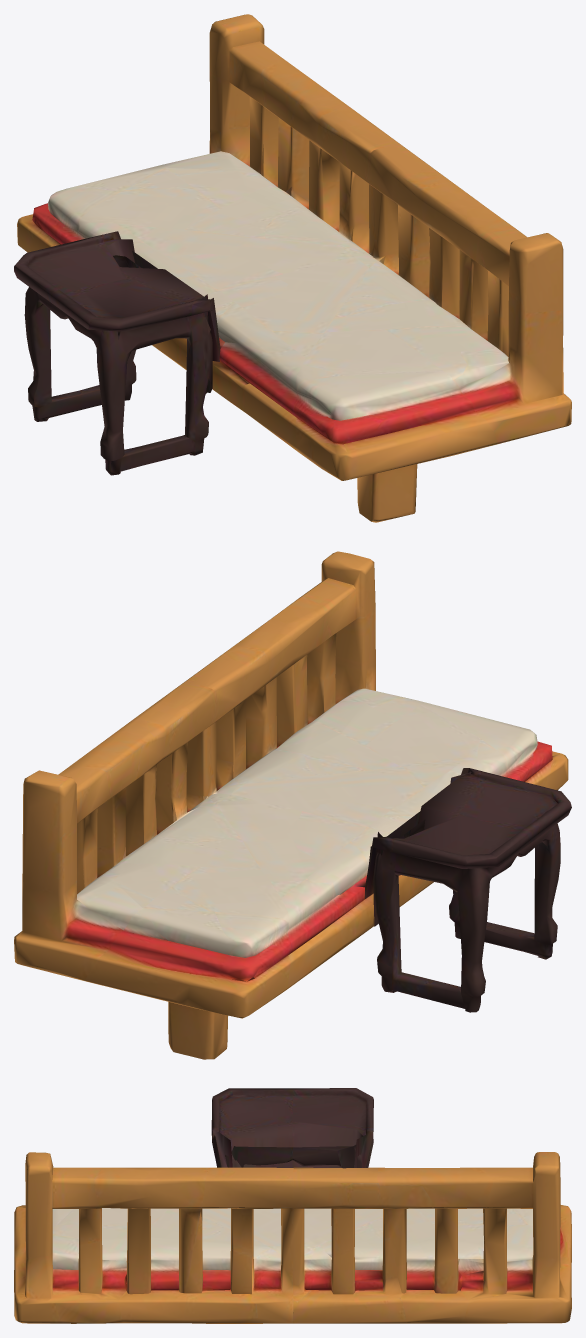
File: KR_사물_s1_seat_wallbench.glb
3 views of the same model, one above another, from view 1: azimuth 30°, elevation 25°; view 2: azimuth 150°, elevation 25°; view 3: azimuth 270°, elevation 25° (orthographic). The views are drawn at different scales.
Parts seen in each view (by area): view 1: tripo_node_1445dec6-3598-45f6-806b-2328146b556a; view 2: tripo_node_1445dec6-3598-45f6-806b-2328146b556a; view 3: tripo_node_1445dec6-3598-45f6-806b-2328146b556a.
Boxes of the visible parts, left/top/right/bottom form: tripo_node_1445dec6-3598-45f6-806b-2328146b556a: left=14, top=14, right=571, bottom=522; tripo_node_1445dec6-3598-45f6-806b-2328146b556a: left=14, top=551, right=571, bottom=1059; tripo_node_1445dec6-3598-45f6-806b-2328146b556a: left=14, top=1088, right=571, bottom=1323.
Bounding box in the file's own units: 1.4 × 0.8915 × 2.2.
Materials: 1 (1 with a texture image).
